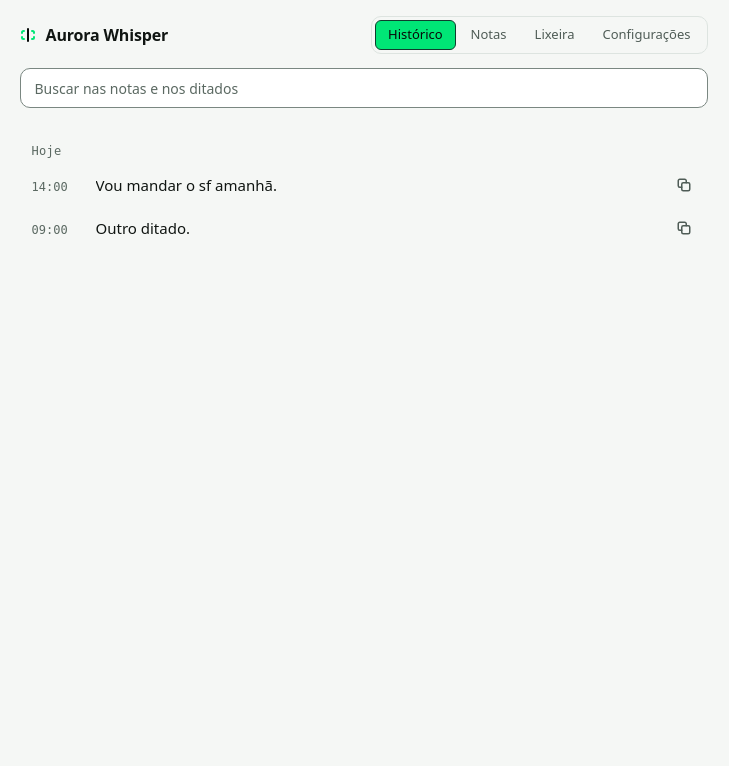
o aviso da sugestão › um Agent anterior à etapa 3, que nem manda o campo, continua salvando como antes
Click the button "14:00 Vou mandar o sf amanhã." at (50, 187), box [20, 164, 708, 206]
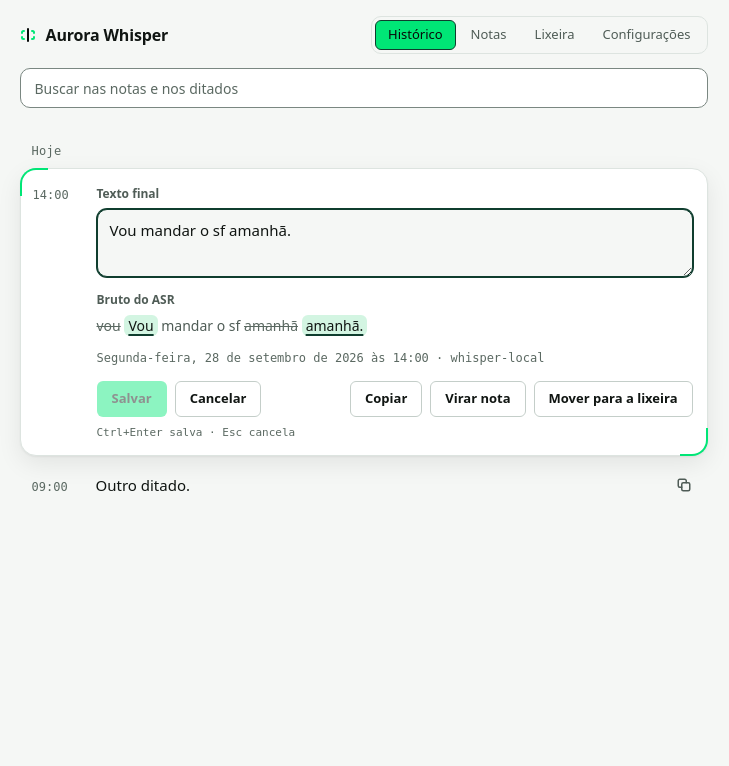
Replace the text in the text box labelled "Texto final" with "Vou mandar o ECF amanhã." at (394, 243), box [96, 209, 692, 276]
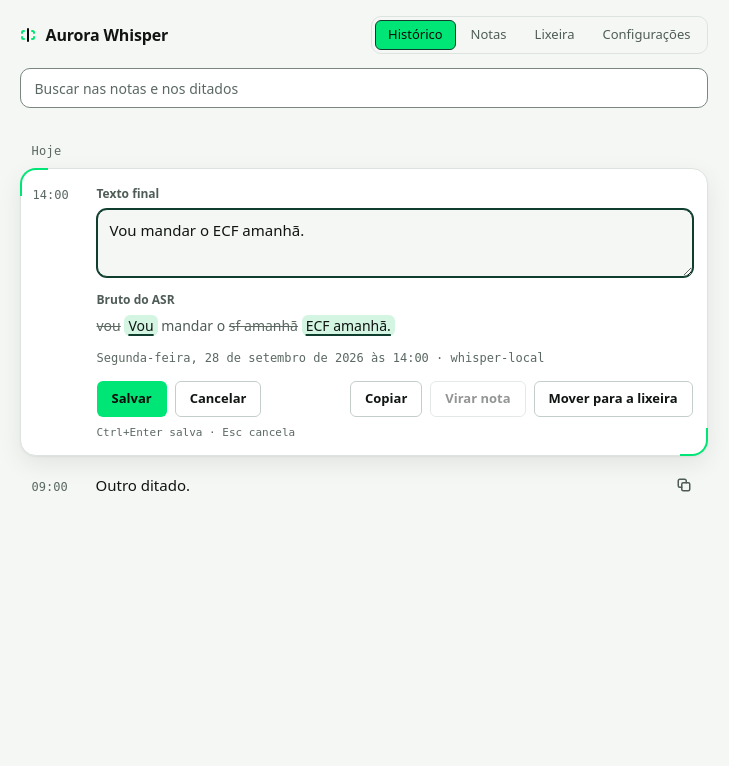
Click the button "Salvar" at (132, 399), box [96, 381, 167, 417]
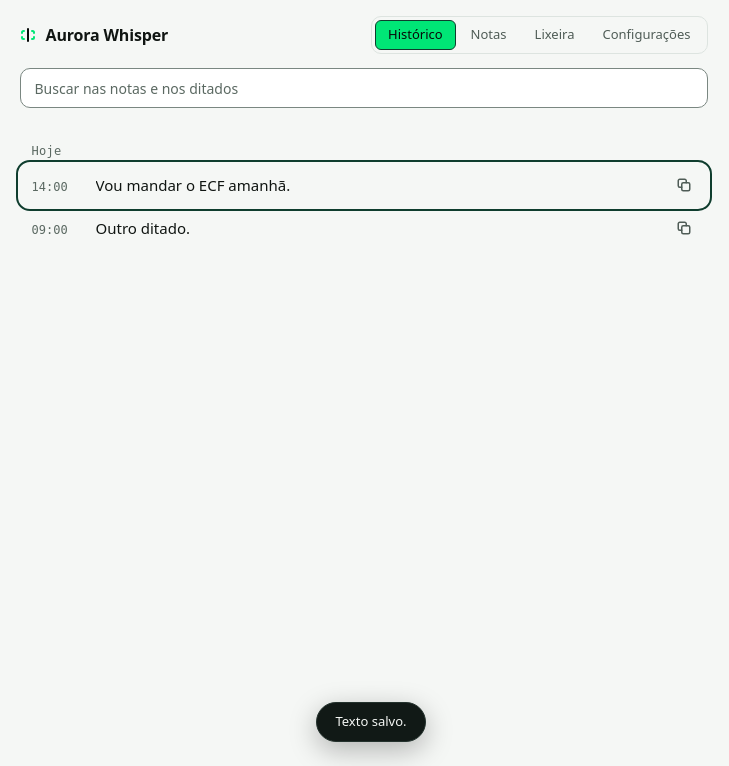
Now the text "Texto salvo." is shown, box [336, 712, 406, 732]
